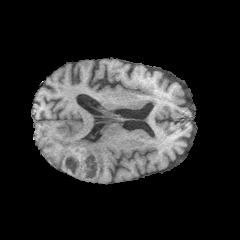glioma: (48, 131, 103, 182)
